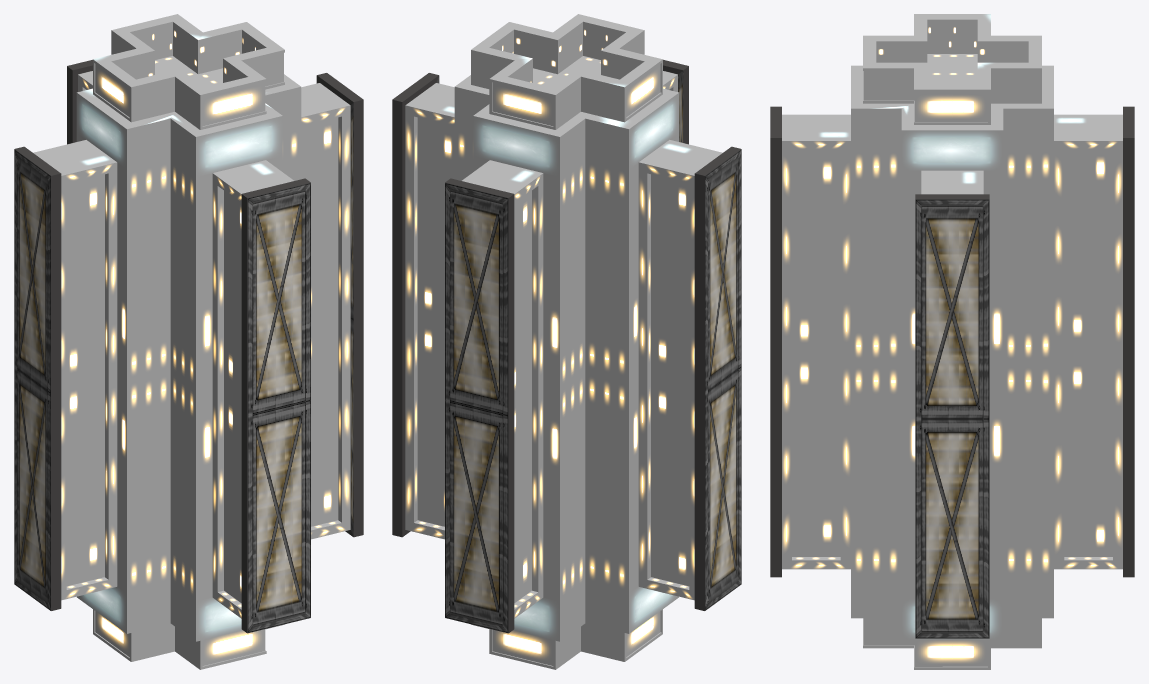
File: Station_powerModule.fbx
3 renders of one model, left to right at view 1: azimuth 30°, elevation 25°; view 2: azimuth 150°, elevation 25°; view 3: azimuth 270°, elevation 25°, orthographic.
Parts seen in each view (by area): view 1: Power Module, Solar Panels; view 2: Power Module, Solar Panels; view 3: Power Module, Solar Panels.
Boxes of the visible parts, x1,y1,x2,y2 form: Power Module: [33, 14, 350, 669]; Solar Panels: [14, 59, 363, 633]; Power Module: [405, 14, 722, 669]; Solar Panels: [392, 59, 741, 633]; Power Module: [782, 14, 1122, 669]; Solar Panels: [770, 106, 1134, 638].
Size of the model in its own units: 33.78 by 59.33 by 33.78.
